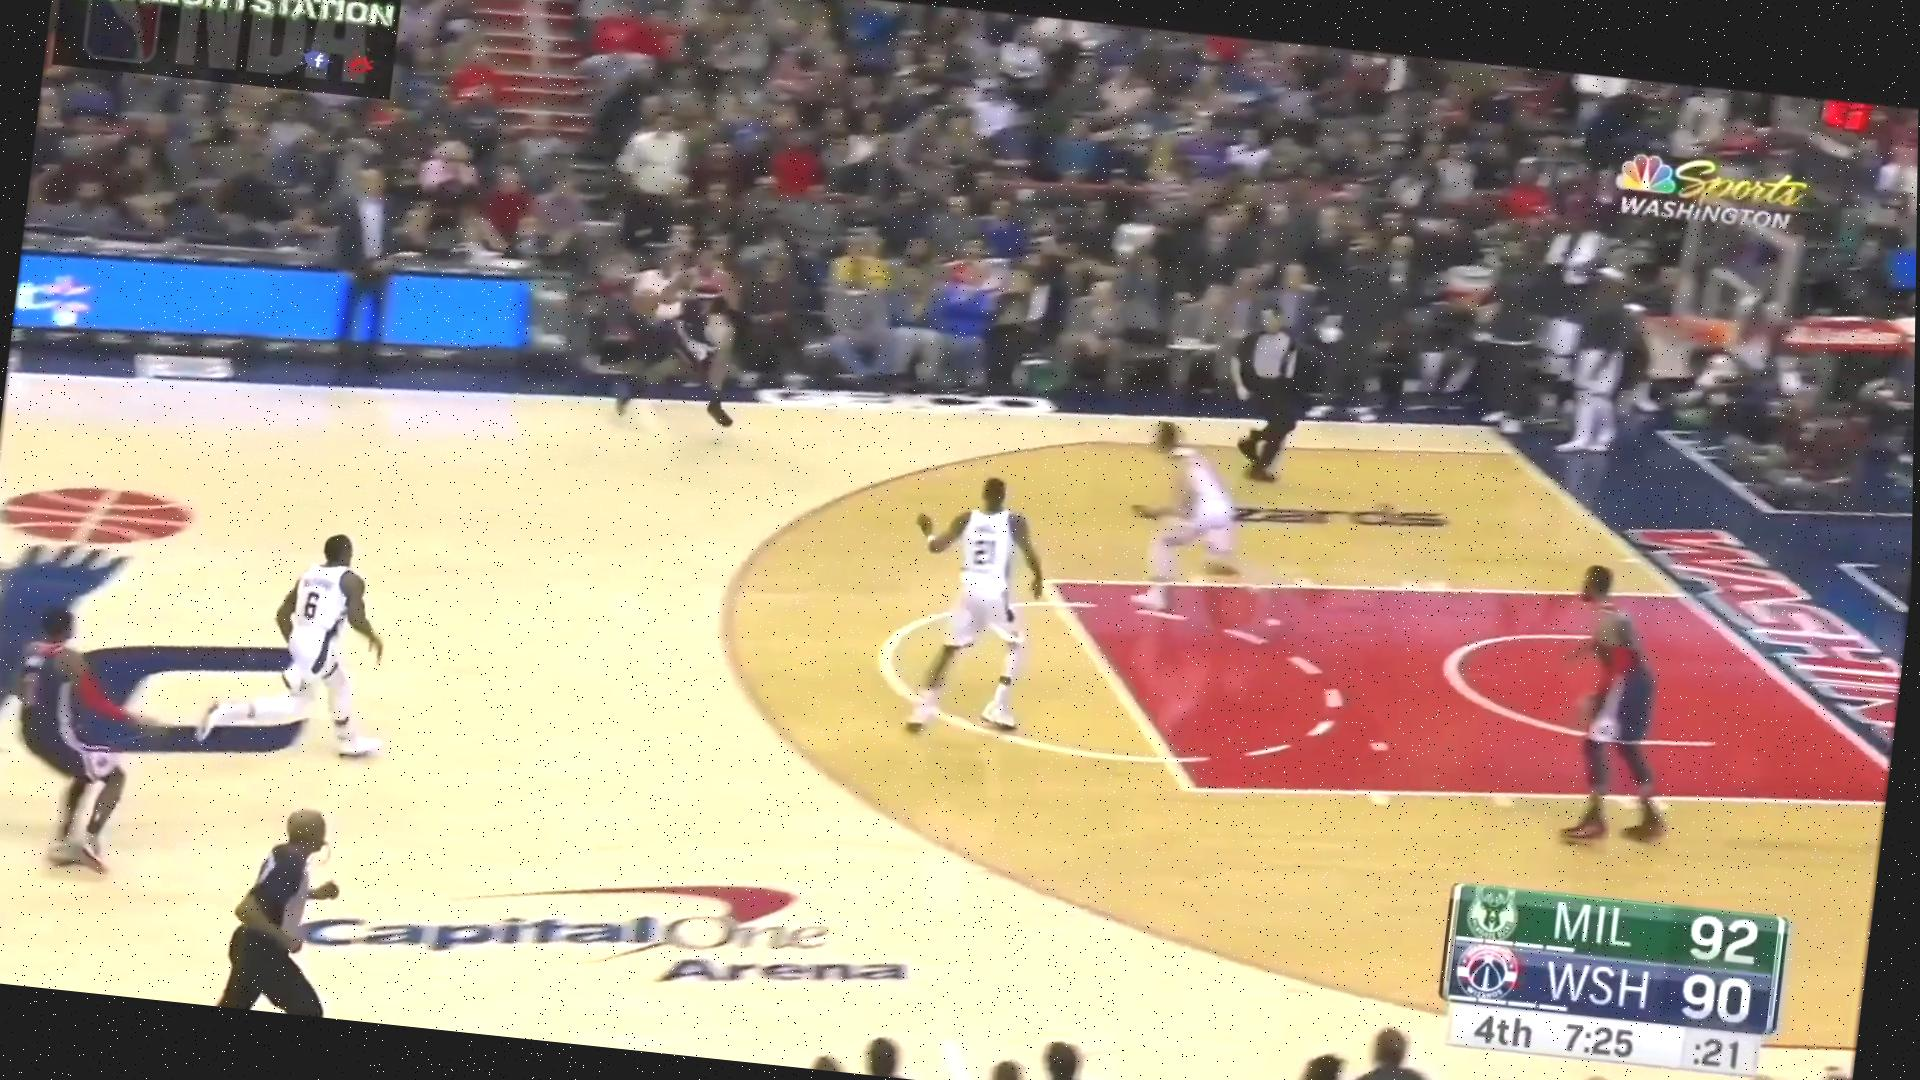no_foul: (0, 468, 386, 893)
